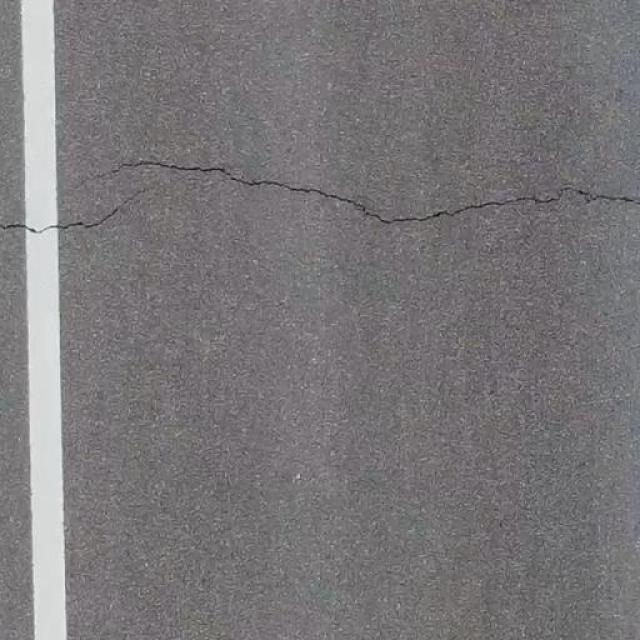minor crack: (260, 176, 364, 208)
moderate crack: (8, 157, 639, 233), (22, 4, 67, 627), (4, 200, 133, 233)
severe crack: (61, 185, 361, 629), (407, 187, 640, 636), (62, 3, 300, 190), (334, 196, 450, 227), (508, 193, 561, 206), (351, 199, 370, 216)
